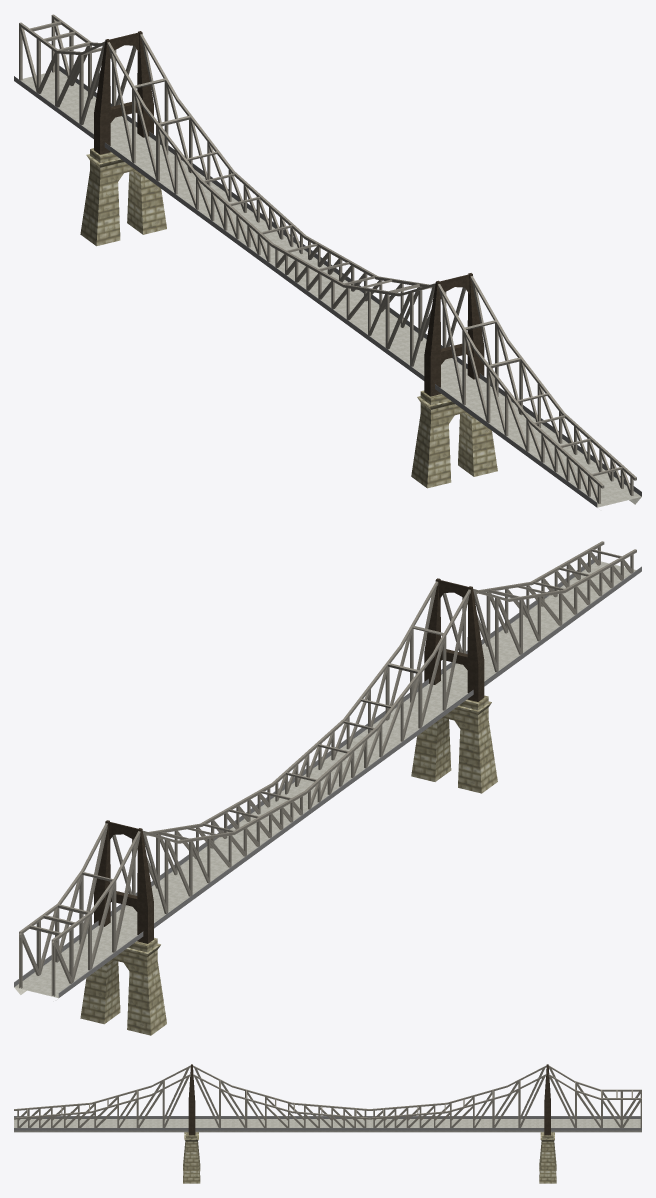
Rendered from Queensboro.fbx.
3 renders of one model, top to bottom at view 1: azimuth 30°, elevation 25°; view 2: azimuth 150°, elevation 25°; view 3: azimuth 270°, elevation 25°, orthographic. The views are drawn at different scales.
Visible parts, largest first — view 1: qb6, qb3, qb2, qb7, qb1, qb5, qb4; view 2: qb3, qb6, qb7, qb2, qb4, qb5, qb1; view 3: qb3, qb6, qb2, qb7, qb5, qb1, qb4.
Boxes of the visible parts, box(x1,y1,x2,y2) form: qb6: box(80, 31, 239, 246); qb3: box(338, 273, 497, 488); qb2: box(435, 276, 569, 454); qb7: box(14, 14, 139, 142); qb1: box(525, 413, 641, 507); qb5: box(195, 171, 311, 265); qb4: box(266, 236, 379, 318); qb3: box(339, 578, 497, 793); qb6: box(80, 820, 239, 1035); qb7: box(14, 823, 143, 998); qb2: box(438, 582, 570, 689); qb4: box(267, 718, 383, 812); qb5: box(199, 783, 311, 865); qb1: box(529, 541, 641, 623); qb3: box(183, 1064, 292, 1183); qb6: box(447, 1064, 556, 1183); qb2: box(91, 1065, 190, 1132); qb7: box(548, 1065, 641, 1132); qb5: box(369, 1102, 449, 1132); qb1: box(14, 1102, 94, 1132); qb4: box(289, 1102, 369, 1132).
Size of the model in its own units: 246 by 652 by 3512.
Materials: 5 (5 with a texture image).
